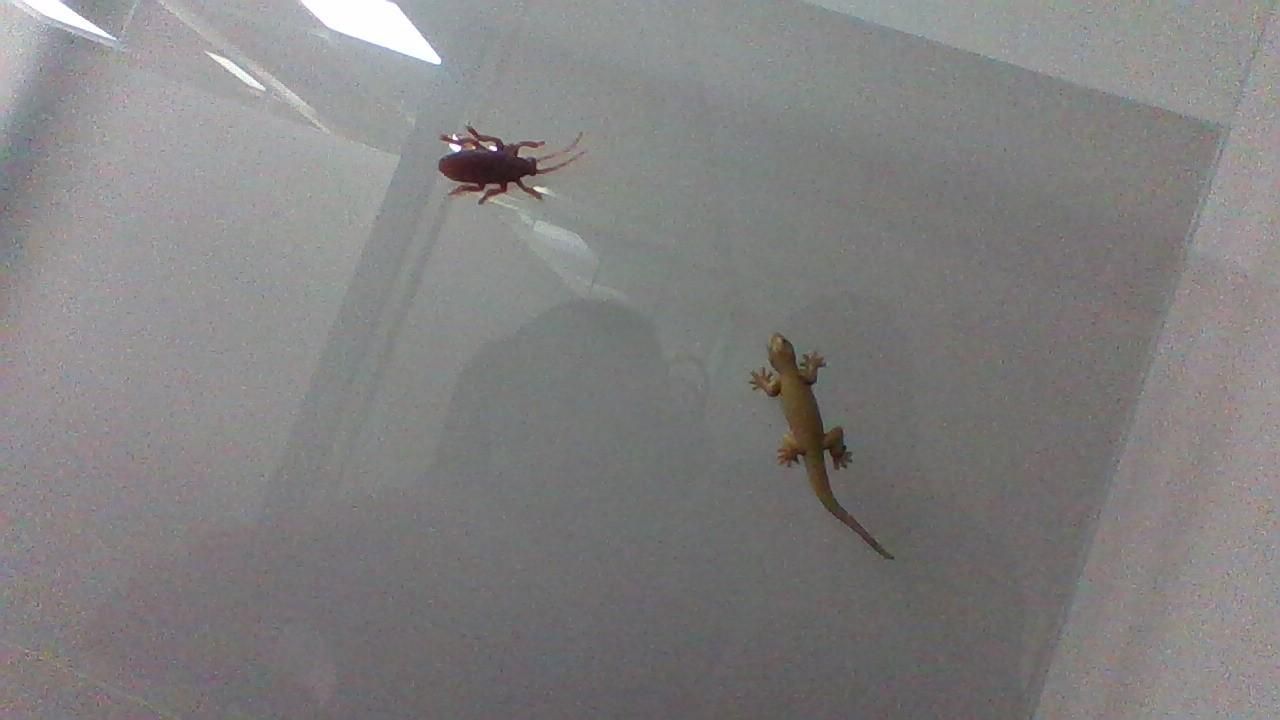cockroach: (422, 120, 588, 209)
lizard: (749, 317, 900, 560)
